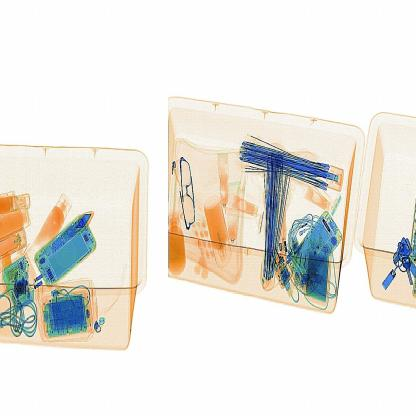pliers: (67, 206, 101, 247)
